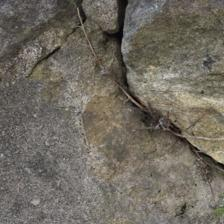Crack: (20, 30, 181, 90), (126, 36, 214, 82)
